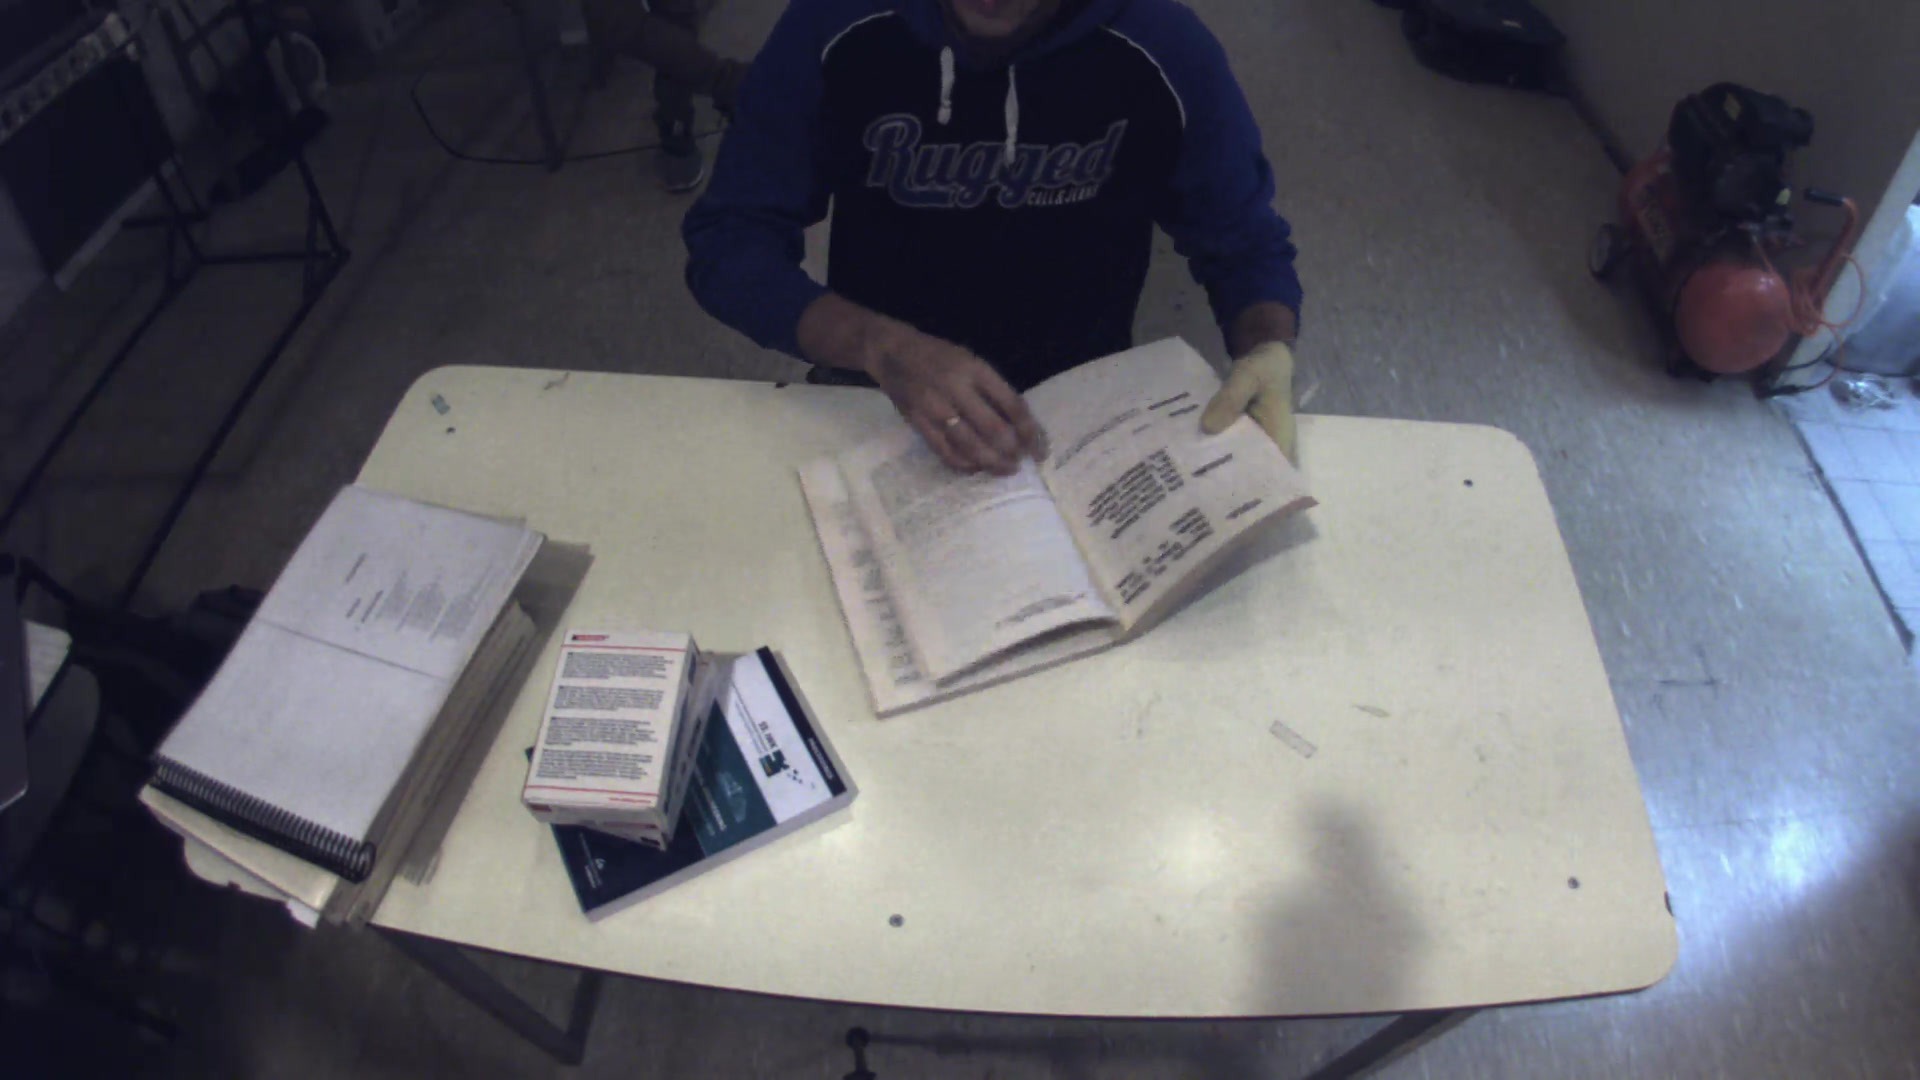hand: (851, 309, 1048, 475), (1199, 328, 1317, 458)
